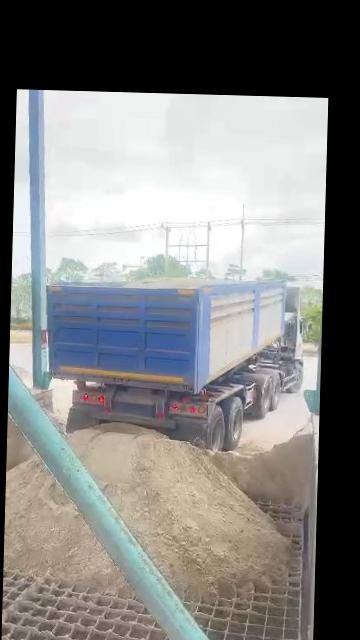sand: (69, 424, 287, 599), (4, 458, 124, 591), (213, 428, 314, 508), (13, 365, 65, 433), (6, 415, 33, 471), (125, 277, 226, 289)
